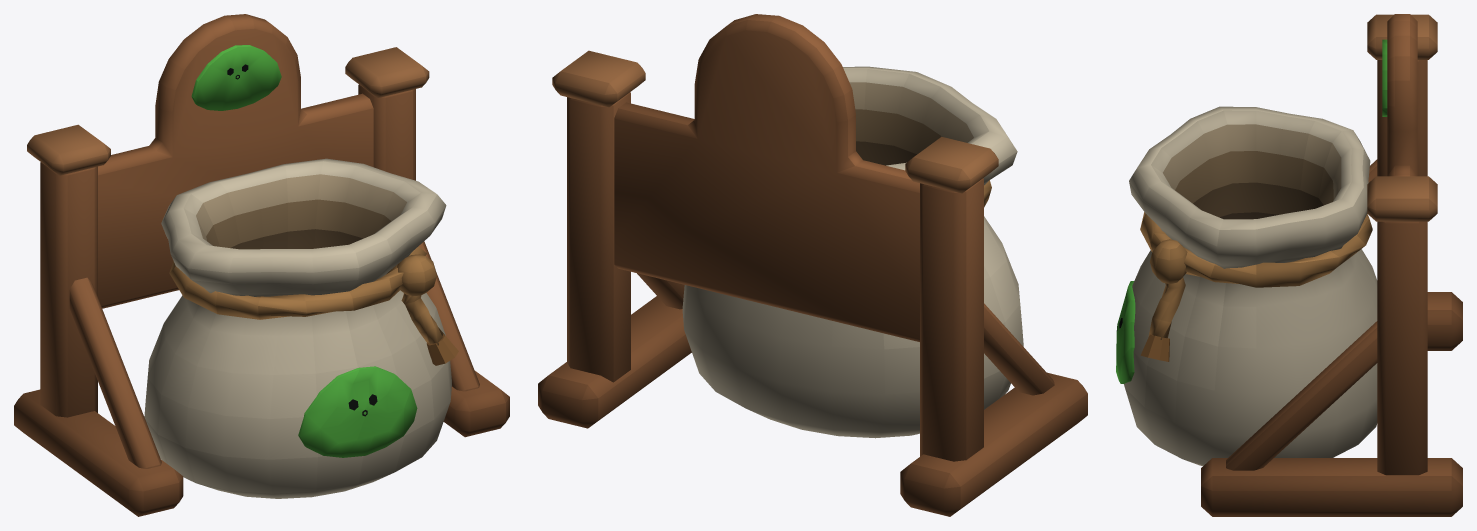
File: Ville_Donation_Sack.glb
The picture shows the model from 3 angles, left to right: view 1: azimuth 30°, elevation 25°; view 2: azimuth 150°, elevation 25°; view 3: azimuth 270°, elevation 25°; orthographic projection. The views are drawn at different scales.
Parts seen in each view (by area): view 1: Ville_Donation_Sack; view 2: Ville_Donation_Sack; view 3: Ville_Donation_Sack.
Part boxes in pixels (x1,y1,x2,y2): Ville_Donation_Sack: (14, 14, 509, 516); Ville_Donation_Sack: (538, 14, 1087, 516); Ville_Donation_Sack: (1116, 14, 1462, 516).
Bounding box in the file's own units: 1.82 × 1.77 × 1.38.
